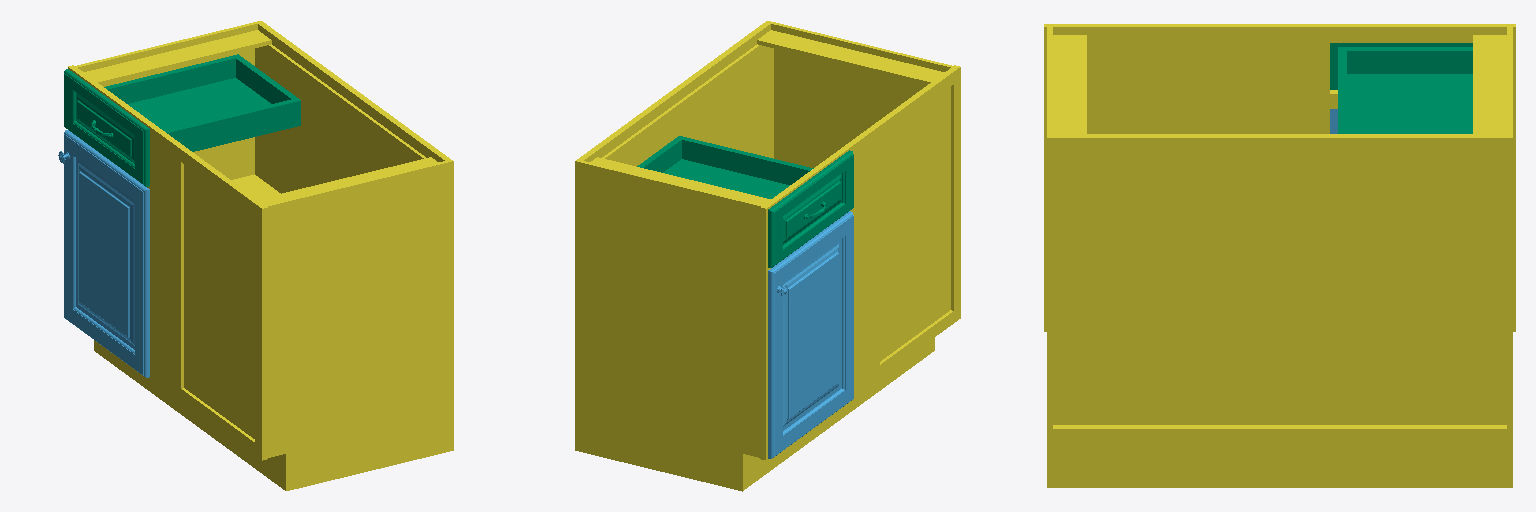
robot.urdf — partnet_139aeafbfbdd6bb64da5feafe6f1c8fc:
<?xml version="1.0" ?>
<robot name="partnet_139aeafbfbdd6bb64da5feafe6f1c8fc">
	<link name="base"/>
	<link name="link_0">
		<visual name="cabinet_door_surface-14">
			<origin xyz="0.713215975953218 0.4381567437914299 -0.4281087589618656"/>
			<geometry>
				<mesh filename="textured_objs/original-62.obj"/>
			</geometry>
		</visual>
		<visual name="cabinet_door_surface-14">
			<origin xyz="0.713215975953218 0.4381567437914299 -0.4281087589618656"/>
			<geometry>
				<mesh filename="textured_objs/original-58.obj"/>
			</geometry>
		</visual>
		<visual name="cabinet_door_surface-14">
			<origin xyz="0.713215975953218 0.4381567437914299 -0.4281087589618656"/>
			<geometry>
				<mesh filename="textured_objs/original-56.obj"/>
			</geometry>
		</visual>
		<visual name="cabinet_door_surface-14">
			<origin xyz="0.713215975953218 0.4381567437914299 -0.4281087589618656"/>
			<geometry>
				<mesh filename="textured_objs/original-52.obj"/>
			</geometry>
		</visual>
		<visual name="cabinet_door_surface-14">
			<origin xyz="0.713215975953218 0.4381567437914299 -0.4281087589618656"/>
			<geometry>
				<mesh filename="textured_objs/original-53.obj"/>
			</geometry>
		</visual>
		<visual name="cabinet_door_surface-14">
			<origin xyz="0.713215975953218 0.4381567437914299 -0.4281087589618656"/>
			<geometry>
				<mesh filename="textured_objs/original-59.obj"/>
			</geometry>
		</visual>
		<visual name="cabinet_door_surface-14">
			<origin xyz="0.713215975953218 0.4381567437914299 -0.4281087589618656"/>
			<geometry>
				<mesh filename="textured_objs/original-57.obj"/>
			</geometry>
		</visual>
		<visual name="cabinet_door_surface-14">
			<origin xyz="0.713215975953218 0.4381567437914299 -0.4281087589618656"/>
			<geometry>
				<mesh filename="textured_objs/original-54.obj"/>
			</geometry>
		</visual>
		<visual name="cabinet_door_surface-14">
			<origin xyz="0.713215975953218 0.4381567437914299 -0.4281087589618656"/>
			<geometry>
				<mesh filename="textured_objs/original-55.obj"/>
			</geometry>
		</visual>
		<visual name="cabinet_door_surface-14">
			<origin xyz="0.713215975953218 0.4381567437914299 -0.4281087589618656"/>
			<geometry>
				<mesh filename="textured_objs/original-61.obj"/>
			</geometry>
		</visual>
		<visual name="handle-15">
			<origin xyz="0.713215975953218 0.4381567437914299 -0.4281087589618656"/>
			<geometry>
				<mesh filename="textured_objs/original-63.obj"/>
			</geometry>
		</visual>
		<collision>
			<origin xyz="0.713215975953218 0.4381567437914299 -0.4281087589618656"/>
			<geometry>
				<mesh filename="textured_objs/original-62.obj"/>
			</geometry>
		</collision>
		<collision>
			<origin xyz="0.713215975953218 0.4381567437914299 -0.4281087589618656"/>
			<geometry>
				<mesh filename="textured_objs/original-58.obj"/>
			</geometry>
		</collision>
		<collision>
			<origin xyz="0.713215975953218 0.4381567437914299 -0.4281087589618656"/>
			<geometry>
				<mesh filename="textured_objs/original-56.obj"/>
			</geometry>
		</collision>
		<collision>
			<origin xyz="0.713215975953218 0.4381567437914299 -0.4281087589618656"/>
			<geometry>
				<mesh filename="textured_objs/original-52.obj"/>
			</geometry>
		</collision>
		<collision>
			<origin xyz="0.713215975953218 0.4381567437914299 -0.4281087589618656"/>
			<geometry>
				<mesh filename="textured_objs/original-53.obj"/>
			</geometry>
		</collision>
		<collision>
			<origin xyz="0.713215975953218 0.4381567437914299 -0.4281087589618656"/>
			<geometry>
				<mesh filename="textured_objs/original-59.obj"/>
			</geometry>
		</collision>
		<collision>
			<origin xyz="0.713215975953218 0.4381567437914299 -0.4281087589618656"/>
			<geometry>
				<mesh filename="textured_objs/original-57.obj"/>
			</geometry>
		</collision>
		<collision>
			<origin xyz="0.713215975953218 0.4381567437914299 -0.4281087589618656"/>
			<geometry>
				<mesh filename="textured_objs/original-54.obj"/>
			</geometry>
		</collision>
		<collision>
			<origin xyz="0.713215975953218 0.4381567437914299 -0.4281087589618656"/>
			<geometry>
				<mesh filename="textured_objs/original-55.obj"/>
			</geometry>
		</collision>
		<collision>
			<origin xyz="0.713215975953218 0.4381567437914299 -0.4281087589618656"/>
			<geometry>
				<mesh filename="textured_objs/original-61.obj"/>
			</geometry>
		</collision>
		<collision>
			<origin xyz="0.713215975953218 0.4381567437914299 -0.4281087589618656"/>
			<geometry>
				<mesh filename="textured_objs/original-63.obj"/>
			</geometry>
		</collision>
	</link>
	<joint name="joint_0" type="revolute">
		<origin xyz="-0.713215975953218 -0.4381567437914299 0.4281087589618656"/>
		<axis xyz="0 -1 -0.0006427854946180443"/>
		<child link="link_0"/>
		<parent link="link_2"/>
		<limit lower="0.0" upper="1.5707963267948966"/>
	</joint>
	<link name="link_1">
		<visual name="drawer_front-9">
			<origin xyz="0.45165591822772844 -0.458812481774617 0.39739999175071716"/>
			<geometry>
				<mesh filename="textured_objs/original-42.obj"/>
			</geometry>
		</visual>
		<visual name="drawer_front-9">
			<origin xyz="0.45165591822772844 -0.458812481774617 0.39739999175071716"/>
			<geometry>
				<mesh filename="textured_objs/original-45.obj"/>
			</geometry>
		</visual>
		<visual name="drawer_front-9">
			<origin xyz="0.45165591822772844 -0.458812481774617 0.39739999175071716"/>
			<geometry>
				<mesh filename="textured_objs/original-40.obj"/>
			</geometry>
		</visual>
		<visual name="drawer_front-9">
			<origin xyz="0.45165591822772844 -0.458812481774617 0.39739999175071716"/>
			<geometry>
				<mesh filename="textured_objs/original-37.obj"/>
			</geometry>
		</visual>
		<visual name="drawer_front-9">
			<origin xyz="0.45165591822772844 -0.458812481774617 0.39739999175071716"/>
			<geometry>
				<mesh filename="textured_objs/original-43.obj"/>
			</geometry>
		</visual>
		<visual name="drawer_front-9">
			<origin xyz="0.45165591822772844 -0.458812481774617 0.39739999175071716"/>
			<geometry>
				<mesh filename="textured_objs/original-36.obj"/>
			</geometry>
		</visual>
		<visual name="drawer_front-9">
			<origin xyz="0.45165591822772844 -0.458812481774617 0.39739999175071716"/>
			<geometry>
				<mesh filename="textured_objs/original-39.obj"/>
			</geometry>
		</visual>
		<visual name="drawer_front-9">
			<origin xyz="0.45165591822772844 -0.458812481774617 0.39739999175071716"/>
			<geometry>
				<mesh filename="textured_objs/original-38.obj"/>
			</geometry>
		</visual>
		<visual name="drawer_front-9">
			<origin xyz="0.45165591822772844 -0.458812481774617 0.39739999175071716"/>
			<geometry>
				<mesh filename="textured_objs/original-28.obj"/>
			</geometry>
		</visual>
		<visual name="drawer_front-9">
			<origin xyz="0.45165591822772844 -0.458812481774617 0.39739999175071716"/>
			<geometry>
				<mesh filename="textured_objs/original-46.obj"/>
			</geometry>
		</visual>
		<visual name="drawer_front-9">
			<origin xyz="0.45165591822772844 -0.458812481774617 0.39739999175071716"/>
			<geometry>
				<mesh filename="textured_objs/original-41.obj"/>
			</geometry>
		</visual>
		<visual name="drawer_side-10">
			<origin xyz="0.45165591822772844 -0.458812481774617 0.39739999175071716"/>
			<geometry>
				<mesh filename="textured_objs/original-27.obj"/>
			</geometry>
		</visual>
		<visual name="drawer_side-11">
			<origin xyz="0.45165591822772844 -0.458812481774617 0.39739999175071716"/>
			<geometry>
				<mesh filename="textured_objs/original-32.obj"/>
			</geometry>
		</visual>
		<visual name="drawer_side-11">
			<origin xyz="0.45165591822772844 -0.458812481774617 0.39739999175071716"/>
			<geometry>
				<mesh filename="textured_objs/original-34.obj"/>
			</geometry>
		</visual>
		<visual name="drawer_back-12">
			<origin xyz="0.45165591822772844 -0.458812481774617 0.39739999175071716"/>
			<geometry>
				<mesh filename="textured_objs/original-33.obj"/>
			</geometry>
		</visual>
		<visual name="drawer_bottom-13">
			<origin xyz="0.45165591822772844 -0.458812481774617 0.39739999175071716"/>
			<geometry>
				<mesh filename="textured_objs/original-31.obj"/>
			</geometry>
		</visual>
		<visual name="drawer_bottom-13">
			<origin xyz="0.45165591822772844 -0.458812481774617 0.39739999175071716"/>
			<geometry>
				<mesh filename="textured_objs/original-30.obj"/>
			</geometry>
		</visual>
		<visual name="handle-8">
			<origin xyz="0.45165591822772844 -0.458812481774617 0.39739999175071716"/>
			<geometry>
				<mesh filename="textured_objs/original-48.obj"/>
			</geometry>
		</visual>
		<visual name="handle-8">
			<origin xyz="0.45165591822772844 -0.458812481774617 0.39739999175071716"/>
			<geometry>
				<mesh filename="textured_objs/original-49.obj"/>
			</geometry>
		</visual>
		<visual name="handle-8">
			<origin xyz="0.45165591822772844 -0.458812481774617 0.39739999175071716"/>
			<geometry>
				<mesh filename="textured_objs/original-50.obj"/>
			</geometry>
		</visual>
		<collision>
			<origin xyz="0.45165591822772844 -0.458812481774617 0.39739999175071716"/>
			<geometry>
				<mesh filename="textured_objs/original-42.obj"/>
			</geometry>
		</collision>
		<collision>
			<origin xyz="0.45165591822772844 -0.458812481774617 0.39739999175071716"/>
			<geometry>
				<mesh filename="textured_objs/original-45.obj"/>
			</geometry>
		</collision>
		<collision>
			<origin xyz="0.45165591822772844 -0.458812481774617 0.39739999175071716"/>
			<geometry>
				<mesh filename="textured_objs/original-40.obj"/>
			</geometry>
		</collision>
		<collision>
			<origin xyz="0.45165591822772844 -0.458812481774617 0.39739999175071716"/>
			<geometry>
				<mesh filename="textured_objs/original-37.obj"/>
			</geometry>
		</collision>
		<collision>
			<origin xyz="0.45165591822772844 -0.458812481774617 0.39739999175071716"/>
			<geometry>
				<mesh filename="textured_objs/original-43.obj"/>
			</geometry>
		</collision>
		<collision>
			<origin xyz="0.45165591822772844 -0.458812481774617 0.39739999175071716"/>
			<geometry>
				<mesh filename="textured_objs/original-36.obj"/>
			</geometry>
		</collision>
		<collision>
			<origin xyz="0.45165591822772844 -0.458812481774617 0.39739999175071716"/>
			<geometry>
				<mesh filename="textured_objs/original-39.obj"/>
			</geometry>
		</collision>
		<collision>
			<origin xyz="0.45165591822772844 -0.458812481774617 0.39739999175071716"/>
			<geometry>
				<mesh filename="textured_objs/original-38.obj"/>
			</geometry>
		</collision>
		<collision>
			<origin xyz="0.45165591822772844 -0.458812481774617 0.39739999175071716"/>
			<geometry>
				<mesh filename="textured_objs/original-28.obj"/>
			</geometry>
		</collision>
		<collision>
			<origin xyz="0.45165591822772844 -0.458812481774617 0.39739999175071716"/>
			<geometry>
				<mesh filename="textured_objs/original-46.obj"/>
			</geometry>
		</collision>
		<collision>
			<origin xyz="0.45165591822772844 -0.458812481774617 0.39739999175071716"/>
			<geometry>
				<mesh filename="textured_objs/original-41.obj"/>
			</geometry>
		</collision>
		<collision>
			<origin xyz="0.45165591822772844 -0.458812481774617 0.39739999175071716"/>
			<geometry>
				<mesh filename="textured_objs/original-27.obj"/>
			</geometry>
		</collision>
		<collision>
			<origin xyz="0.45165591822772844 -0.458812481774617 0.39739999175071716"/>
			<geometry>
				<mesh filename="textured_objs/original-32.obj"/>
			</geometry>
		</collision>
		<collision>
			<origin xyz="0.45165591822772844 -0.458812481774617 0.39739999175071716"/>
			<geometry>
				<mesh filename="textured_objs/original-34.obj"/>
			</geometry>
		</collision>
		<collision>
			<origin xyz="0.45165591822772844 -0.458812481774617 0.39739999175071716"/>
			<geometry>
				<mesh filename="textured_objs/original-33.obj"/>
			</geometry>
		</collision>
		<collision>
			<origin xyz="0.45165591822772844 -0.458812481774617 0.39739999175071716"/>
			<geometry>
				<mesh filename="textured_objs/original-31.obj"/>
			</geometry>
		</collision>
		<collision>
			<origin xyz="0.45165591822772844 -0.458812481774617 0.39739999175071716"/>
			<geometry>
				<mesh filename="textured_objs/original-30.obj"/>
			</geometry>
		</collision>
		<collision>
			<origin xyz="0.45165591822772844 -0.458812481774617 0.39739999175071716"/>
			<geometry>
				<mesh filename="textured_objs/original-48.obj"/>
			</geometry>
		</collision>
		<collision>
			<origin xyz="0.45165591822772844 -0.458812481774617 0.39739999175071716"/>
			<geometry>
				<mesh filename="textured_objs/original-49.obj"/>
			</geometry>
		</collision>
		<collision>
			<origin xyz="0.45165591822772844 -0.458812481774617 0.39739999175071716"/>
			<geometry>
				<mesh filename="textured_objs/original-50.obj"/>
			</geometry>
		</collision>
	</link>
	<joint name="joint_1" type="prismatic">
		<origin xyz="-0.45165591822772844 0.458812481774617 -0.39739999175071716"/>
		<axis xyz="0 0 1"/>
		<child link="link_1"/>
		<parent link="link_2"/>
		<limit lower="0" upper="0.6400000000000001"/>
	</joint>
	<link name="link_2">
		<visual name="shelf-4">
			<origin xyz="0 0 0"/>
			<geometry>
				<mesh filename="textured_objs/original-2.obj"/>
			</geometry>
		</visual>
		<visual name="frame_vertical_bar-27">
			<origin xyz="0 0 0"/>
			<geometry>
				<mesh filename="textured_objs/original-4.obj"/>
			</geometry>
		</visual>
		<visual name="frame_vertical_bar-28">
			<origin xyz="0 0 0"/>
			<geometry>
				<mesh filename="textured_objs/original-8.obj"/>
			</geometry>
		</visual>
		<visual name="frame_horizontal_bar-29">
			<origin xyz="0 0 0"/>
			<geometry>
				<mesh filename="textured_objs/original-9.obj"/>
			</geometry>
		</visual>
		<visual name="frame_horizontal_bar-30">
			<origin xyz="0 0 0"/>
			<geometry>
				<mesh filename="textured_objs/original-18.obj"/>
			</geometry>
		</visual>
		<visual name="frame_horizontal_bar-31">
			<origin xyz="0 0 0"/>
			<geometry>
				<mesh filename="textured_objs/original-22.obj"/>
			</geometry>
		</visual>
		<visual name="frame_horizontal_bar-32">
			<origin xyz="0 0 0"/>
			<geometry>
				<mesh filename="textured_objs/original-21.obj"/>
			</geometry>
		</visual>
		<visual name="frame_horizontal_bar-33">
			<origin xyz="0 0 0"/>
			<geometry>
				<mesh filename="textured_objs/original-5.obj"/>
			</geometry>
		</visual>
		<visual name="frame_horizontal_bar-34">
			<origin xyz="0 0 0"/>
			<geometry>
				<mesh filename="textured_objs/original-7.obj"/>
			</geometry>
		</visual>
		<visual name="vertical_side_panel-35">
			<origin xyz="0 0 0"/>
			<geometry>
				<mesh filename="textured_objs/original-12.obj"/>
			</geometry>
		</visual>
		<visual name="vertical_side_panel-35">
			<origin xyz="0 0 0"/>
			<geometry>
				<mesh filename="textured_objs/original-11.obj"/>
			</geometry>
		</visual>
		<visual name="vertical_side_panel-36">
			<origin xyz="0 0 0"/>
			<geometry>
				<mesh filename="textured_objs/original-16.obj"/>
			</geometry>
		</visual>
		<visual name="vertical_side_panel-36">
			<origin xyz="0 0 0"/>
			<geometry>
				<mesh filename="textured_objs/original-15.obj"/>
			</geometry>
		</visual>
		<visual name="vertical_front_panel-37">
			<origin xyz="0 0 0"/>
			<geometry>
				<mesh filename="textured_objs/original-23.obj"/>
			</geometry>
		</visual>
		<visual name="vertical_front_panel-37">
			<origin xyz="0 0 0"/>
			<geometry>
				<mesh filename="textured_objs/original-24.obj"/>
			</geometry>
		</visual>
		<visual name="back_panel-38">
			<origin xyz="0 0 0"/>
			<geometry>
				<mesh filename="textured_objs/original-6.obj"/>
			</geometry>
		</visual>
		<visual name="back_panel-38">
			<origin xyz="0 0 0"/>
			<geometry>
				<mesh filename="textured_objs/original-64.obj"/>
			</geometry>
		</visual>
		<visual name="bottom_panel-39">
			<origin xyz="0 0 0"/>
			<geometry>
				<mesh filename="textured_objs/original-3.obj"/>
			</geometry>
		</visual>
		<visual name="base_side_panel-17">
			<origin xyz="0 0 0"/>
			<geometry>
				<mesh filename="textured_objs/original-19.obj"/>
			</geometry>
		</visual>
		<visual name="base_side_panel-18">
			<origin xyz="0 0 0"/>
			<geometry>
				<mesh filename="textured_objs/original-13.obj"/>
			</geometry>
		</visual>
		<visual name="base_side_panel-19">
			<origin xyz="0 0 0"/>
			<geometry>
				<mesh filename="textured_objs/original-20.obj"/>
			</geometry>
		</visual>
		<visual name="base_side_panel-20">
			<origin xyz="0 0 0"/>
			<geometry>
				<mesh filename="textured_objs/original-17.obj"/>
			</geometry>
		</visual>
		<collision>
			<origin xyz="0 0 0"/>
			<geometry>
				<mesh filename="textured_objs/original-2.obj"/>
			</geometry>
		</collision>
		<collision>
			<origin xyz="0 0 0"/>
			<geometry>
				<mesh filename="textured_objs/original-4.obj"/>
			</geometry>
		</collision>
		<collision>
			<origin xyz="0 0 0"/>
			<geometry>
				<mesh filename="textured_objs/original-8.obj"/>
			</geometry>
		</collision>
		<collision>
			<origin xyz="0 0 0"/>
			<geometry>
				<mesh filename="textured_objs/original-9.obj"/>
			</geometry>
		</collision>
		<collision>
			<origin xyz="0 0 0"/>
			<geometry>
				<mesh filename="textured_objs/original-18.obj"/>
			</geometry>
		</collision>
		<collision>
			<origin xyz="0 0 0"/>
			<geometry>
				<mesh filename="textured_objs/original-22.obj"/>
			</geometry>
		</collision>
		<collision>
			<origin xyz="0 0 0"/>
			<geometry>
				<mesh filename="textured_objs/original-21.obj"/>
			</geometry>
		</collision>
		<collision>
			<origin xyz="0 0 0"/>
			<geometry>
				<mesh filename="textured_objs/original-5.obj"/>
			</geometry>
		</collision>
		<collision>
			<origin xyz="0 0 0"/>
			<geometry>
				<mesh filename="textured_objs/original-7.obj"/>
			</geometry>
		</collision>
		<collision>
			<origin xyz="0 0 0"/>
			<geometry>
				<mesh filename="textured_objs/original-12.obj"/>
			</geometry>
		</collision>
		<collision>
			<origin xyz="0 0 0"/>
			<geometry>
				<mesh filename="textured_objs/original-11.obj"/>
			</geometry>
		</collision>
		<collision>
			<origin xyz="0 0 0"/>
			<geometry>
				<mesh filename="textured_objs/original-16.obj"/>
			</geometry>
		</collision>
		<collision>
			<origin xyz="0 0 0"/>
			<geometry>
				<mesh filename="textured_objs/original-15.obj"/>
			</geometry>
		</collision>
		<collision>
			<origin xyz="0 0 0"/>
			<geometry>
				<mesh filename="textured_objs/original-23.obj"/>
			</geometry>
		</collision>
		<collision>
			<origin xyz="0 0 0"/>
			<geometry>
				<mesh filename="textured_objs/original-24.obj"/>
			</geometry>
		</collision>
		<collision>
			<origin xyz="0 0 0"/>
			<geometry>
				<mesh filename="textured_objs/original-6.obj"/>
			</geometry>
		</collision>
		<collision>
			<origin xyz="0 0 0"/>
			<geometry>
				<mesh filename="textured_objs/original-64.obj"/>
			</geometry>
		</collision>
		<collision>
			<origin xyz="0 0 0"/>
			<geometry>
				<mesh filename="textured_objs/original-3.obj"/>
			</geometry>
		</collision>
		<collision>
			<origin xyz="0 0 0"/>
			<geometry>
				<mesh filename="textured_objs/original-19.obj"/>
			</geometry>
		</collision>
		<collision>
			<origin xyz="0 0 0"/>
			<geometry>
				<mesh filename="textured_objs/original-13.obj"/>
			</geometry>
		</collision>
		<collision>
			<origin xyz="0 0 0"/>
			<geometry>
				<mesh filename="textured_objs/original-20.obj"/>
			</geometry>
		</collision>
		<collision>
			<origin xyz="0 0 0"/>
			<geometry>
				<mesh filename="textured_objs/original-17.obj"/>
			</geometry>
		</collision>
	</link>
	<joint name="joint_2" type="fixed">
		<origin rpy="1.570796326794897 0 -1.570796326794897" xyz="0 0 0"/>
		<child link="link_2"/>
		<parent link="base"/>
	</joint>
</robot>

--- Render facts (derived) ---
3 views of the same robot in one strip: view 1: azimuth 30°, elevation 25°; view 2: azimuth 150°, elevation 25°; view 3: azimuth 270°, elevation 25° (orthographic).
Model partnet_139aeafbfbdd6bb64da5feafe6f1c8fc with 4 links and 3 joints (1 revolute, 1 prismatic, 1 fixed), rooted at base, posed all joints at 0.
Visible links, largest first — view 1: link_2, link_1, link_0; view 2: link_2, link_0, link_1; view 3: link_2, link_1.
Link boxes in pixels (left/top/right/bottom): link_2: left=68, top=21, right=453, bottom=490; link_1: left=64, top=54, right=300, bottom=186; link_0: left=58, top=130, right=149, bottom=377; link_2: left=575, top=21, right=960, bottom=491; link_0: left=768, top=211, right=853, bottom=458; link_1: left=637, top=136, right=853, bottom=267; link_2: left=1044, top=24, right=1515, bottom=487; link_1: left=1330, top=43, right=1472, bottom=133.
Bounding box of the posed robot: 0.9227 × 1.5 × 1.23 m (x, y, z).
53 mesh visuals loaded from 53 distinct referenced files (53 OBJ).
